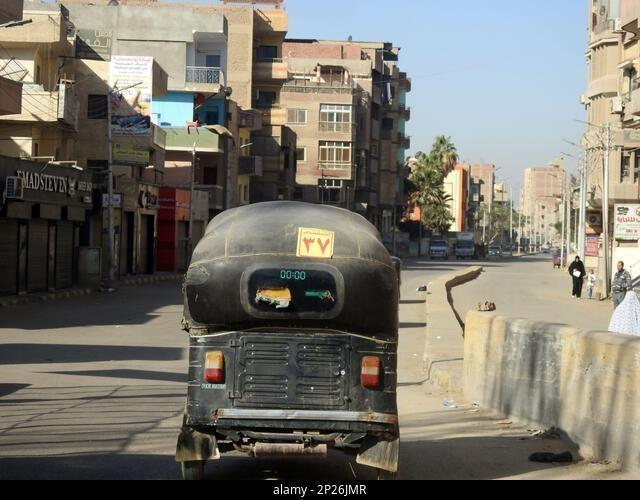keke: (170, 198, 405, 481)
